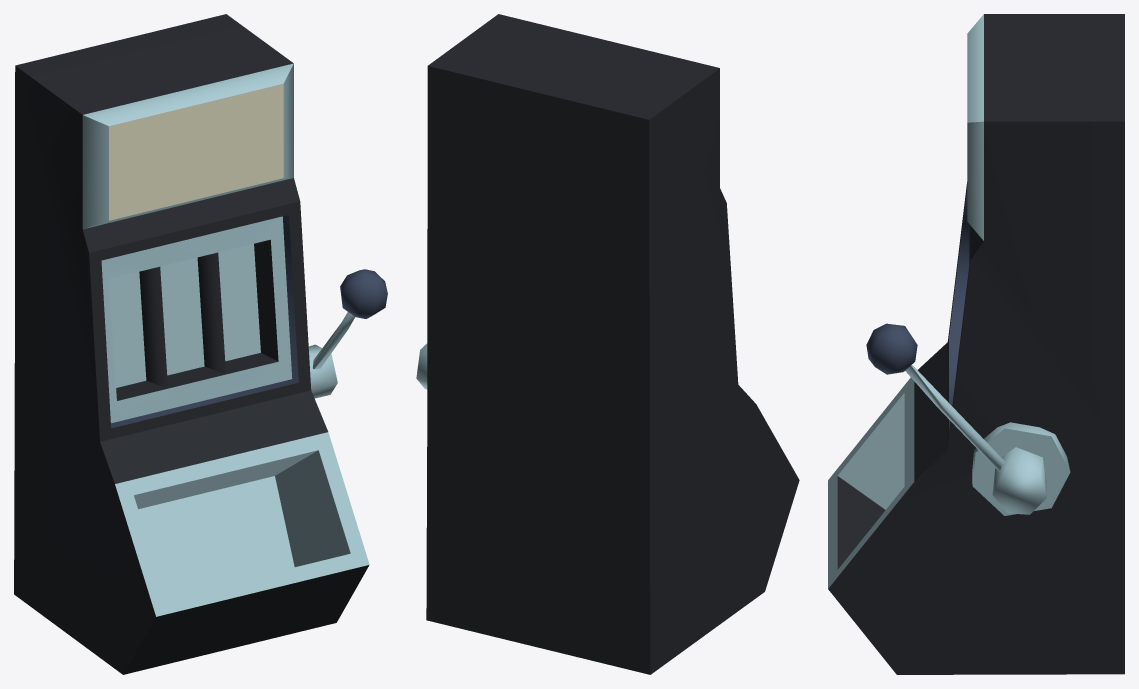
File: Slot.fbx
3 views of the same model, side by side, from view 1: azimuth 30°, elevation 25°; view 2: azimuth 150°, elevation 25°; view 3: azimuth 270°, elevation 25° (orthographic). The views are drawn at different scales.
Parts seen in each view (by area): view 1: machine; view 2: machine; view 3: machine.
Part boxes in pixels (x1,y1,x2,y2): machine: (14, 14, 387, 674); machine: (416, 14, 799, 674); machine: (828, 14, 1124, 674).
Size of the model in its own units: 464 by 901 by 439.
